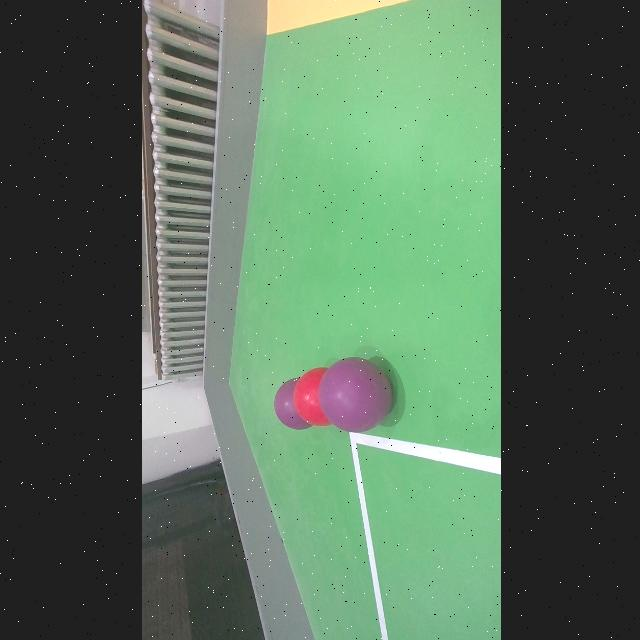P: (316, 358, 390, 432), (270, 378, 298, 429)
R: (291, 368, 331, 427)
